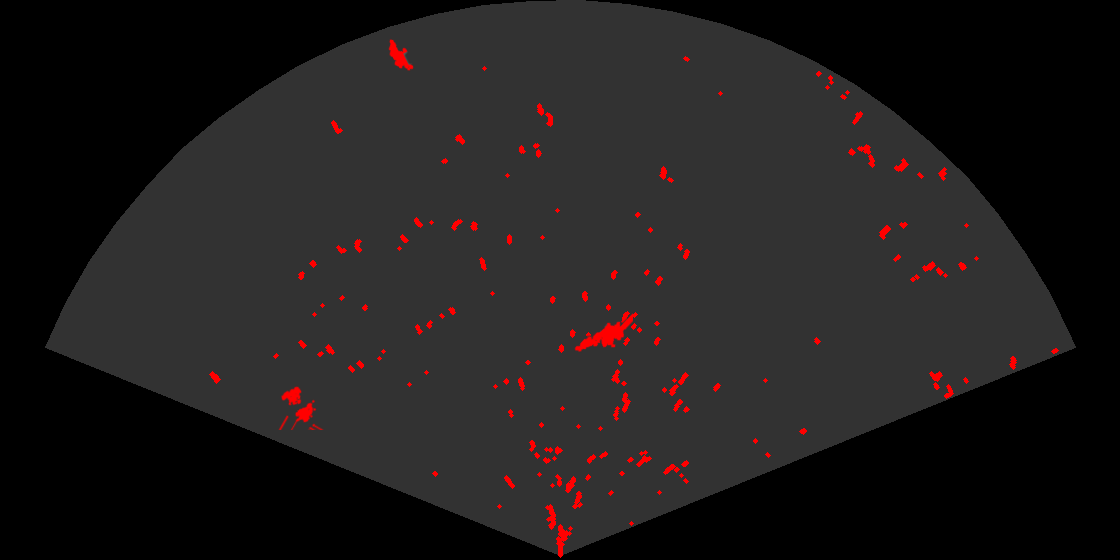AUV: (387, 37, 415, 72)
cage: (277, 385, 325, 430)
frogman: (573, 312, 633, 354)
